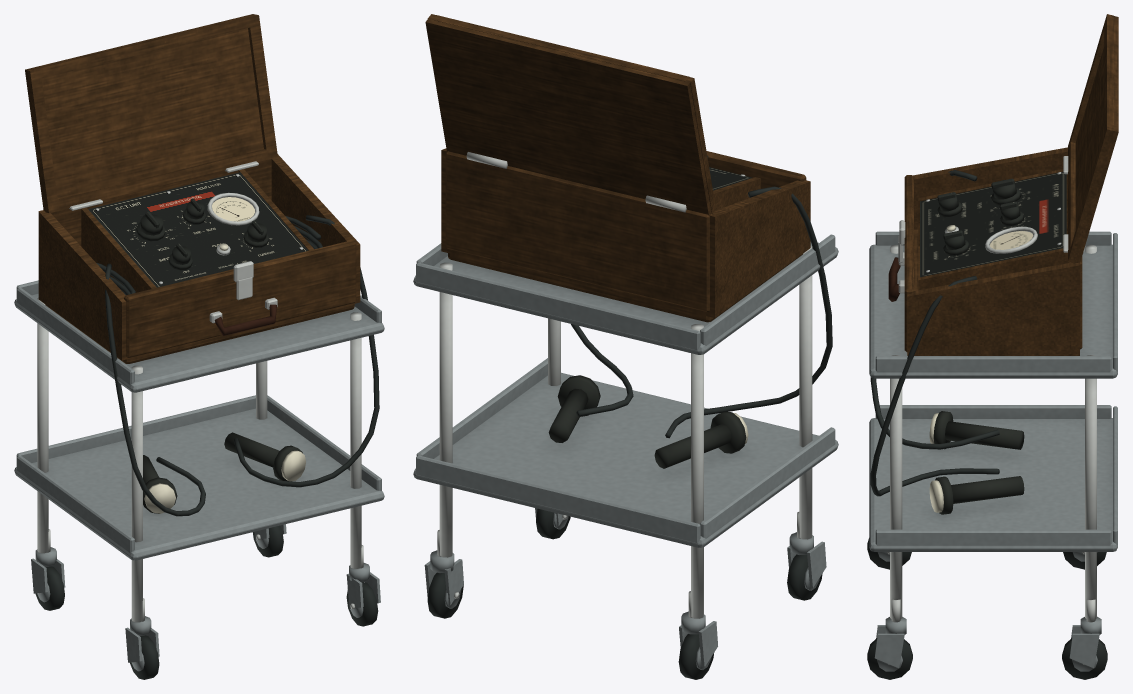
File: ect_machine.glb
3 renders of one model, left to right at view 1: azimuth 30°, elevation 25°; view 2: azimuth 150°, elevation 25°; view 3: azimuth 270°, elevation 25°, orthographic. The views are drawn at different scales.
Visible parts, largest first — view 1: Asylum ECT wooden case and trolley; view 2: Asylum ECT wooden case and trolley; view 3: Asylum ECT wooden case and trolley.
Boxes of the visible parts, x1=… form: Asylum ECT wooden case and trolley: x1=14, y1=14, x2=384, y2=679; Asylum ECT wooden case and trolley: x1=413, y1=14, x2=838, y2=679; Asylum ECT wooden case and trolley: x1=867, y1=14, x2=1118, y2=679.
Bounding box in the file's own units: 0.5998 × 1.19 × 0.4956.
Materials: 2 (2 with a texture image).
